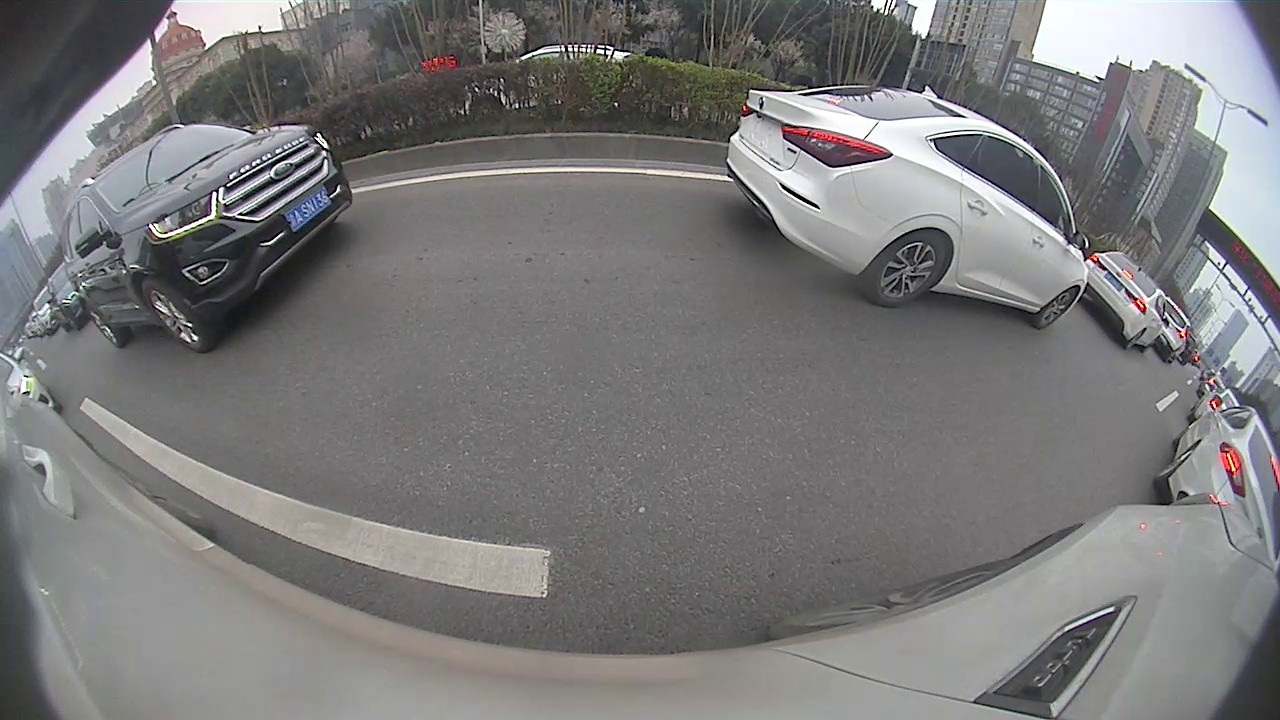car: (725, 83, 1091, 332), (57, 121, 355, 358), (1153, 397, 1278, 571), (1082, 251, 1171, 354)
front: (143, 282, 208, 353), (1031, 288, 1080, 329)
rear: (869, 233, 947, 306), (88, 306, 122, 349)
